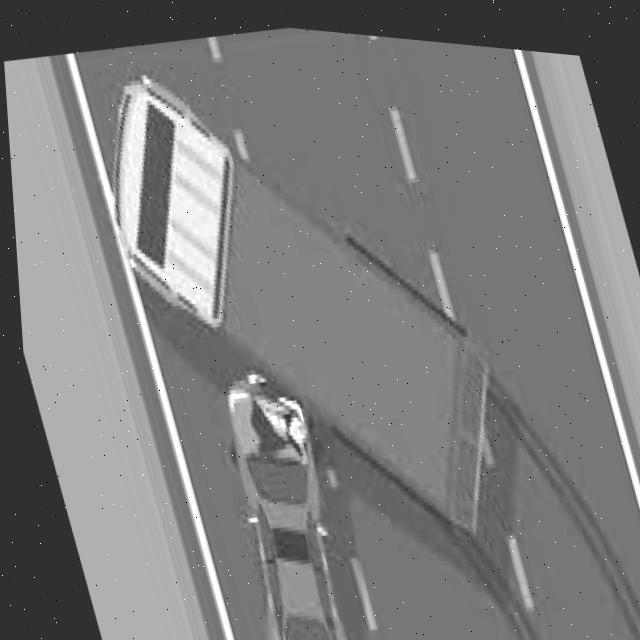truck: (74, 9, 535, 595)
